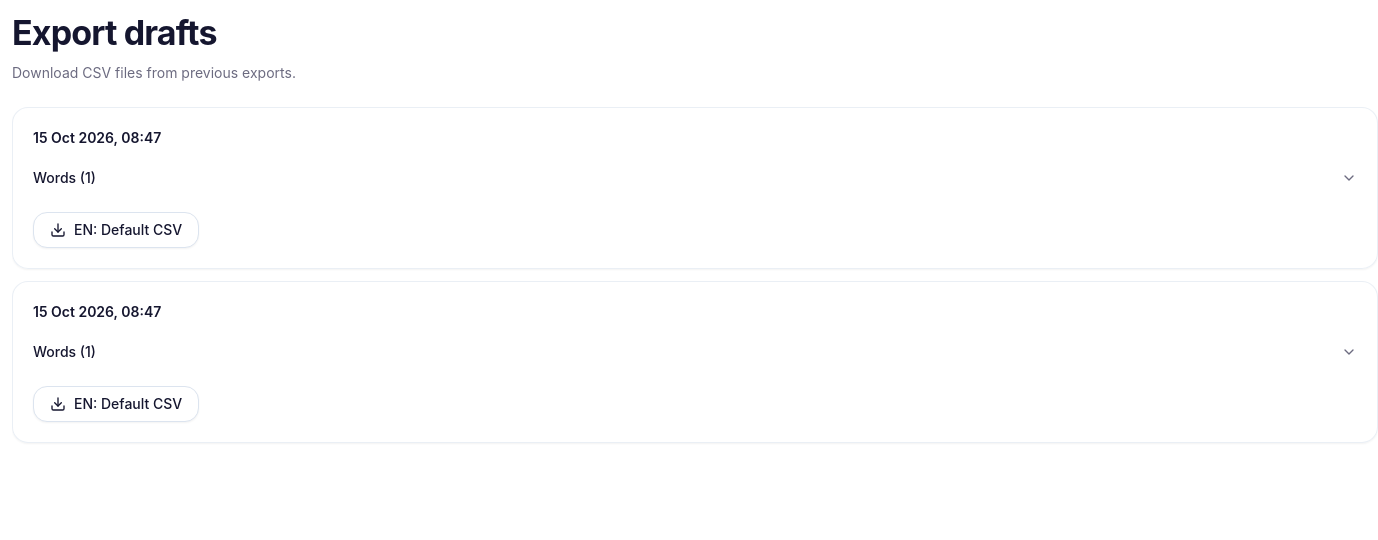
Scenario: ExportScreen › keeps each word list independent and supports older exports without saved words
Step 1. Click the 1st button "Words (1)" → [59, 177], box [33, 160, 1357, 196]
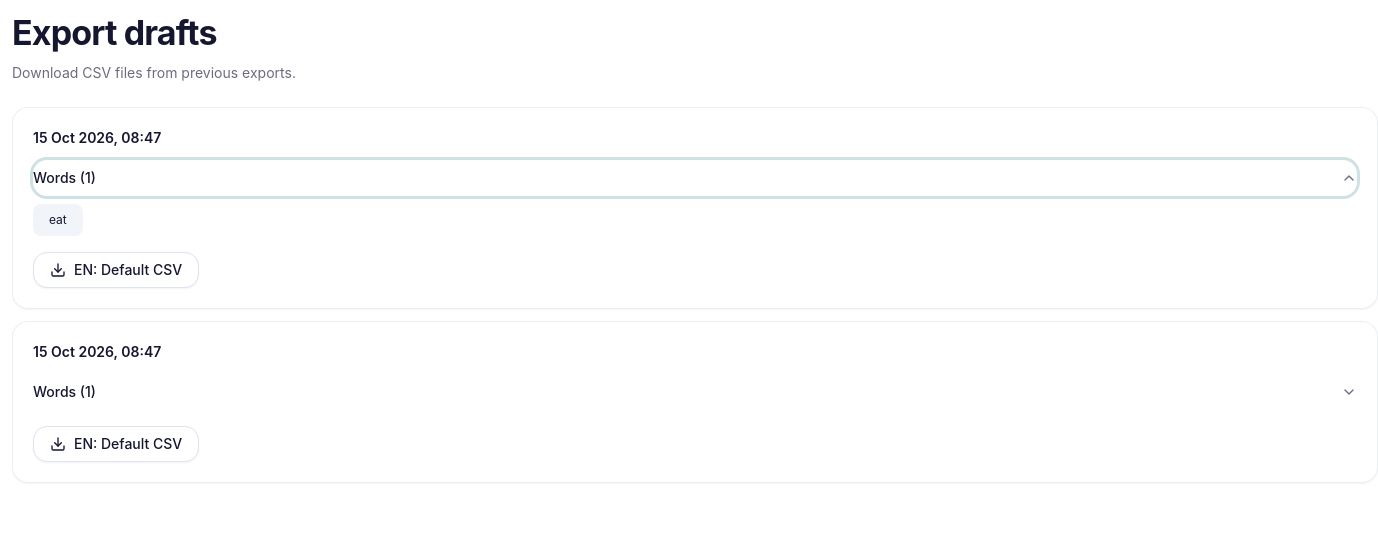
expect the number of lists named "Exported words" is 1: met, box [33, 204, 83, 236]
Step 2. Click the 2nd button "Words (1)" → [59, 391], box [33, 374, 1357, 410]
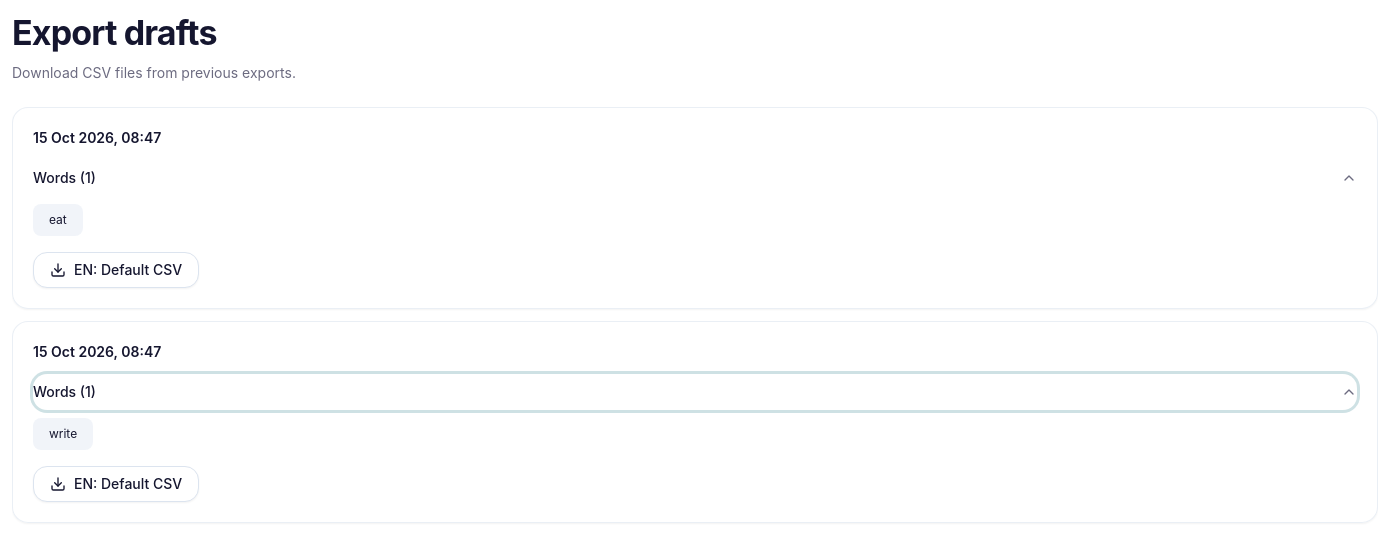
expect the number of lists named "Exported words" is 2: met, box [33, 204, 83, 236]; [33, 418, 93, 450]
